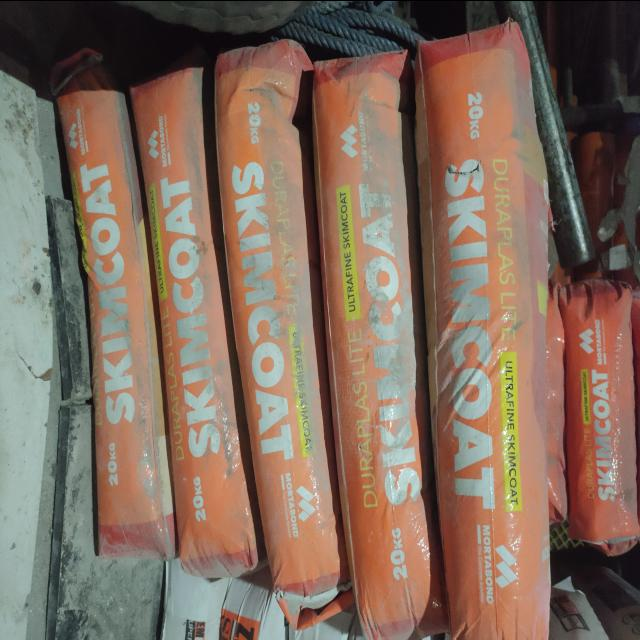Skim coat: (420, 30, 542, 640), (348, 73, 409, 625), (250, 60, 310, 596), (172, 80, 230, 564), (101, 71, 159, 555), (573, 290, 633, 546)
